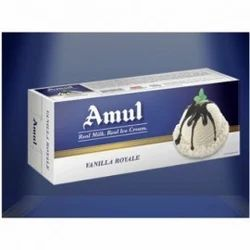Amul: (79, 98, 145, 129)
